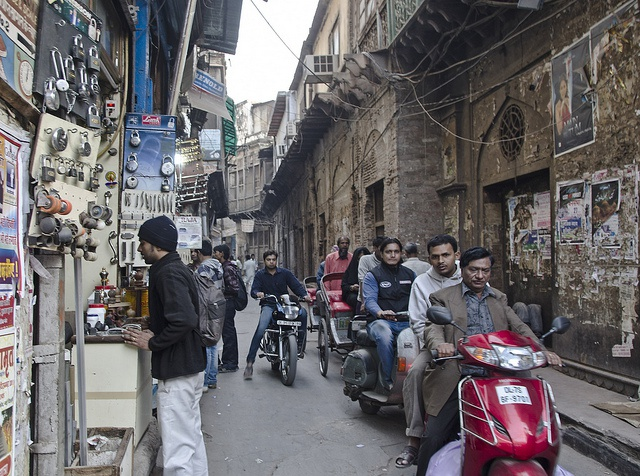non-vehicle: (427, 304, 567, 471), (336, 310, 422, 413), (261, 294, 319, 382)
